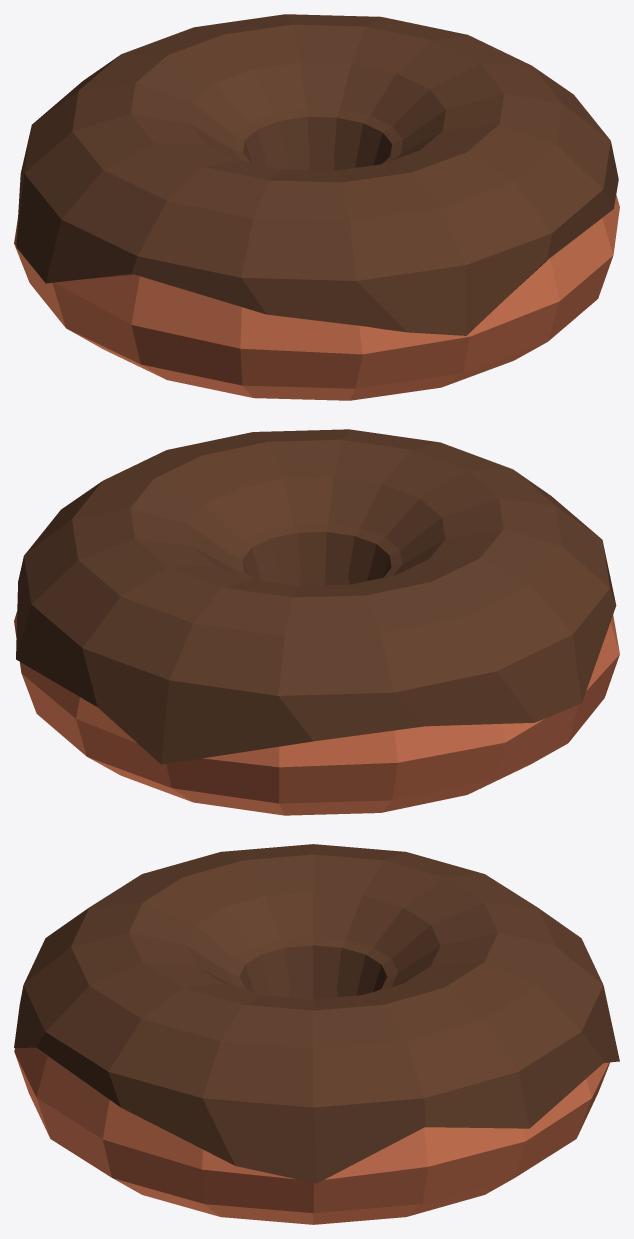
Rendered from Donut_01.fbx.
3 views of the same model, one above another, from view 1: azimuth 30°, elevation 25°; view 2: azimuth 150°, elevation 25°; view 3: azimuth 270°, elevation 25° (orthographic).
Parts seen in each view (by area): view 1: Donut_01; view 2: Donut_01; view 3: Donut_01.
Part boxes in pixels (left/top/right/bottom): Donut_01: left=14, top=14, right=619, bottom=400; Donut_01: left=14, top=429, right=619, bottom=815; Donut_01: left=14, top=844, right=619, bottom=1224.
Bounding box in the file's own units: 15.74 × 5.83 × 15.71.
